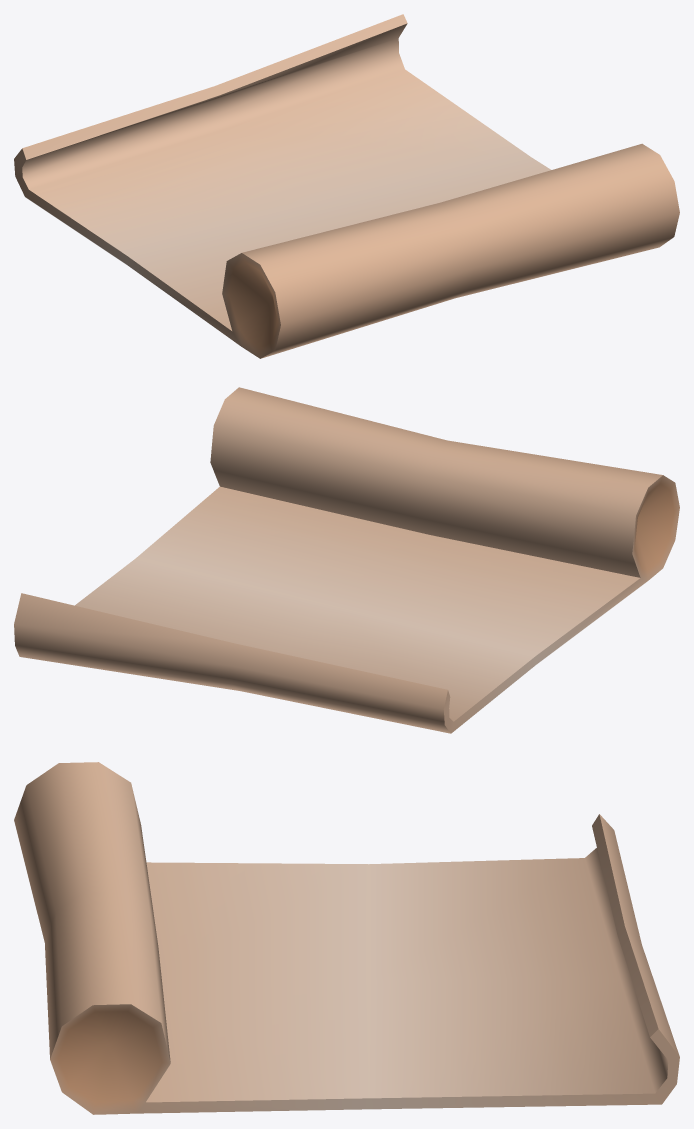
File: PaperScrollOpen3.fbx
The picture shows the model from 3 angles, top to bottom: view 1: azimuth 30°, elevation 25°; view 2: azimuth 150°, elevation 25°; view 3: azimuth 270°, elevation 25°; orthographic projection. The views are drawn at different scales.
Visible parts, largest first — view 1: PaperScrollOpen3; view 2: PaperScrollOpen3; view 3: PaperScrollOpen3.
Boxes of the visible parts, x1=… form: PaperScrollOpen3: x1=14, y1=14, x2=679, y2=358; PaperScrollOpen3: x1=14, y1=387, x2=679, y2=733; PaperScrollOpen3: x1=14, y1=762, x2=679, y2=1114.
Bounding box in the file's own units: 23.06 × 4.91 × 26.15.
